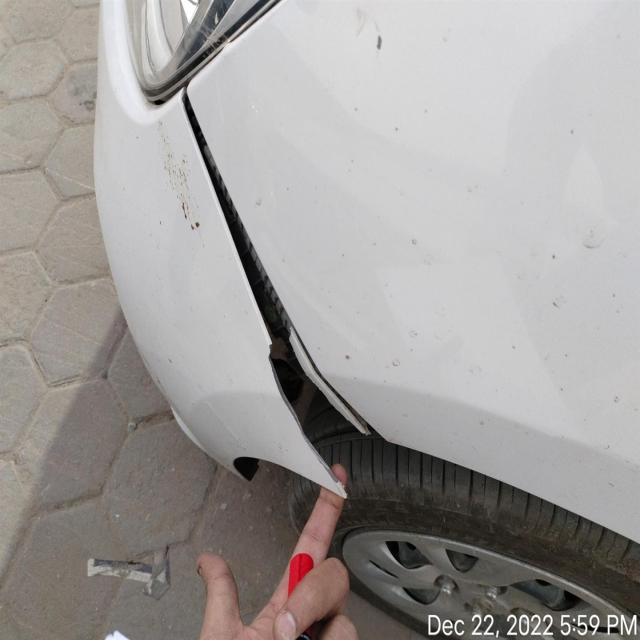damage: (181, 86, 386, 499)
